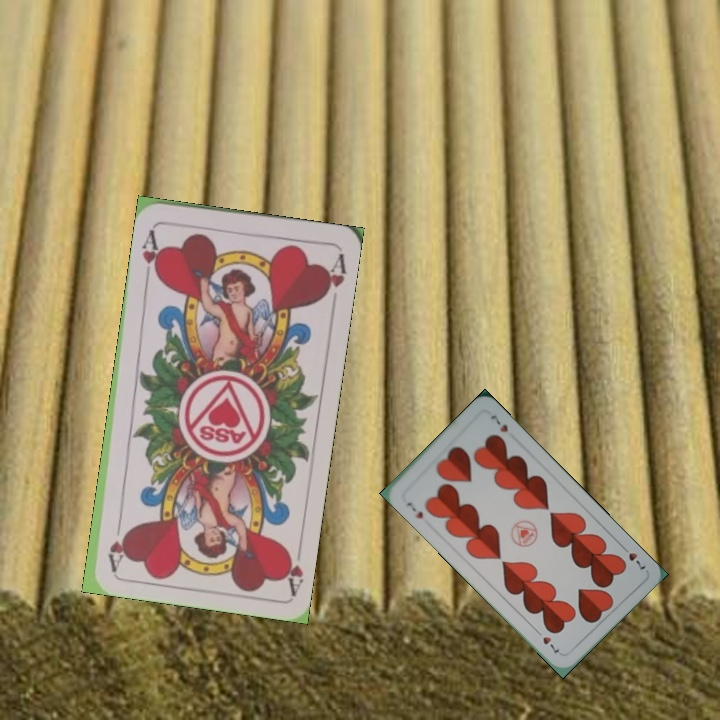H7: (616, 541, 649, 572), (402, 498, 426, 521)
HA: (278, 537, 306, 596), (138, 223, 165, 282)
